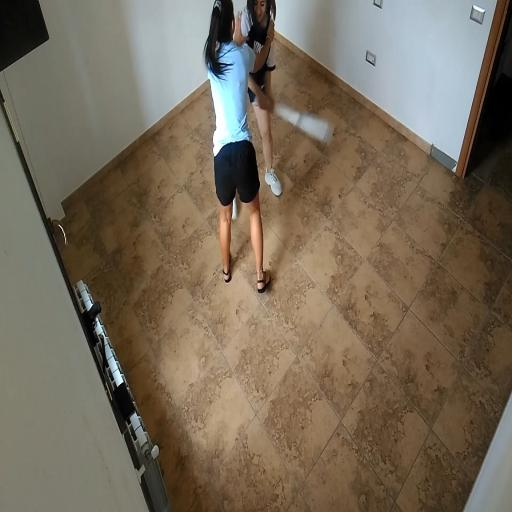violencia: (184, 0, 336, 305)
